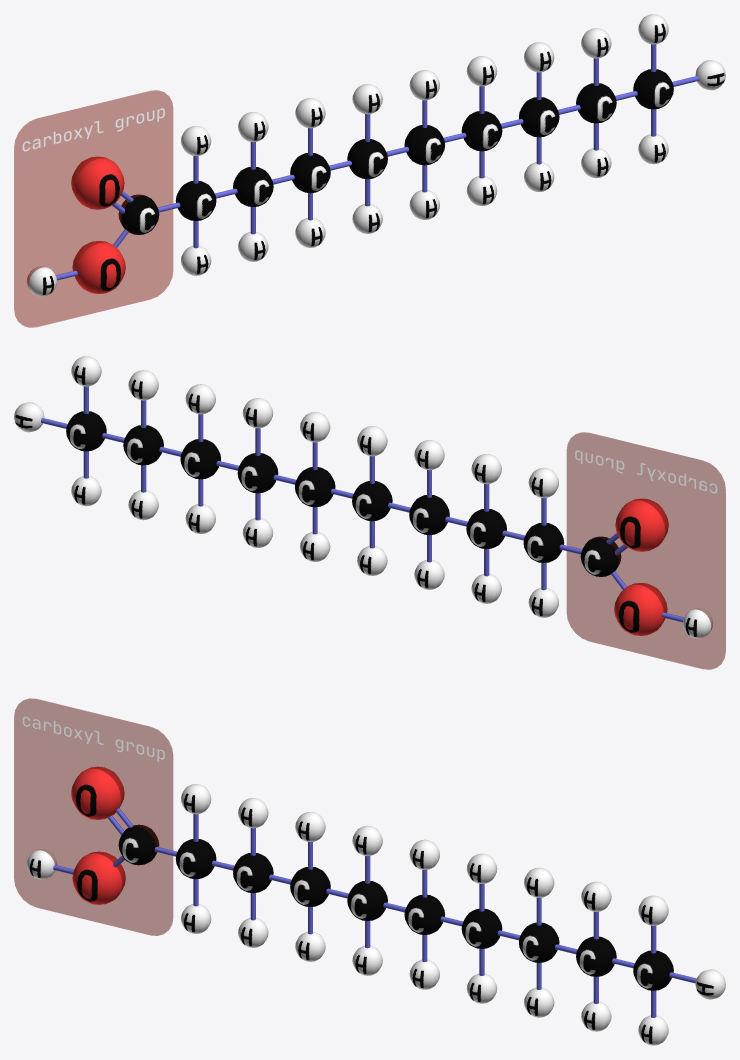
The model's file is chapter-1-section-4-saturated-fatty-acid.glb.
The picture shows the model from 3 angles, top to bottom: view 1: azimuth 30°, elevation 25°; view 2: azimuth 150°, elevation 25°; view 3: azimuth 330°, elevation 25°; orthographic projection.
Visible parts, largest first — view 1: Plane.008, Plane.021, oxygen.007, oxygen.009, carbon.005, hydrogen.002, Plane.013; view 2: Plane.008, Plane.021, oxygen.007, oxygen.009, carbon.005, hydrogen.002, Plane.013; view 3: Plane.008, Plane.021, oxygen.007, oxygen.009, carbon.005, Plane.013, hydrogen.002.
Boxes of the visible parts, left/top/right/bottom form: Plane.008: left=175, top=14, right=673, bottom=275; Plane.021: left=14, top=90, right=173, bottom=327; oxygen.007: left=71, top=156, right=124, bottom=209; oxygen.009: left=72, top=241, right=125, bottom=293; carbon.005: left=118, top=194, right=159, bottom=234; hydrogen.002: left=26, top=266, right=57, bottom=296; Plane.013: left=695, top=60, right=725, bottom=90; Plane.008: left=66, top=356, right=564, bottom=617; Plane.021: left=566, top=432, right=725, bottom=669; oxygen.007: left=615, top=498, right=668, bottom=551; oxygen.009: left=614, top=583, right=667, bottom=635; carbon.005: left=580, top=536, right=621, bottom=576; hydrogen.002: left=682, top=608, right=713, bottom=638; Plane.013: left=14, top=402, right=44, bottom=432; Plane.008: left=175, top=784, right=673, bottom=1045; Plane.021: left=14, top=698, right=173, bottom=935; oxygen.007: left=71, top=766, right=124, bottom=819; oxygen.009: left=72, top=851, right=125, bottom=904; carbon.005: left=118, top=824, right=159, bottom=865; Plane.013: left=695, top=969, right=725, bottom=999; hydrogen.002: left=26, top=849, right=57, bottom=879.
Size of the model in its own units: 12.42 by 3.49 by 0.81.
Materials: 6 (4 with a texture image).
